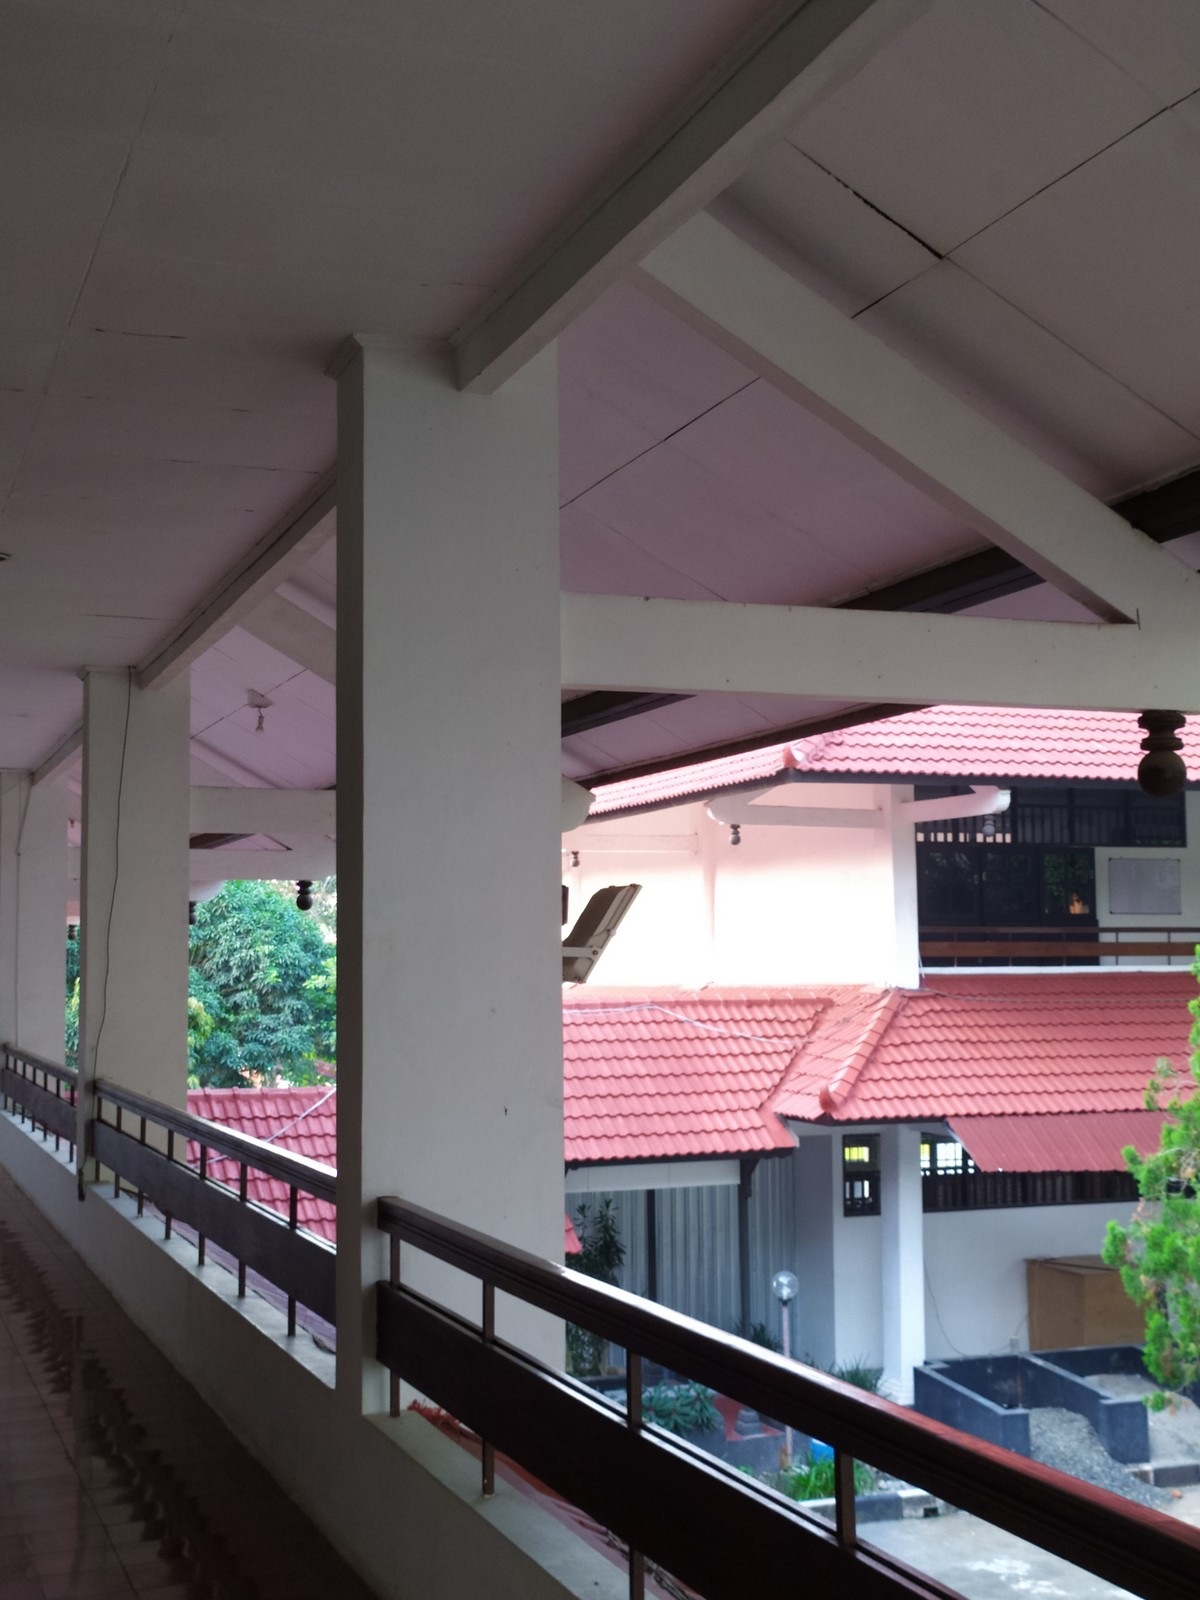concrete beam: (536, 581, 1137, 724)
concrete column: (306, 319, 587, 1424), (67, 653, 204, 1201)
